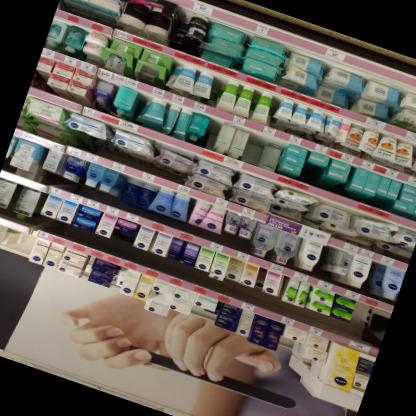empty_space: (353, 301, 388, 337)
